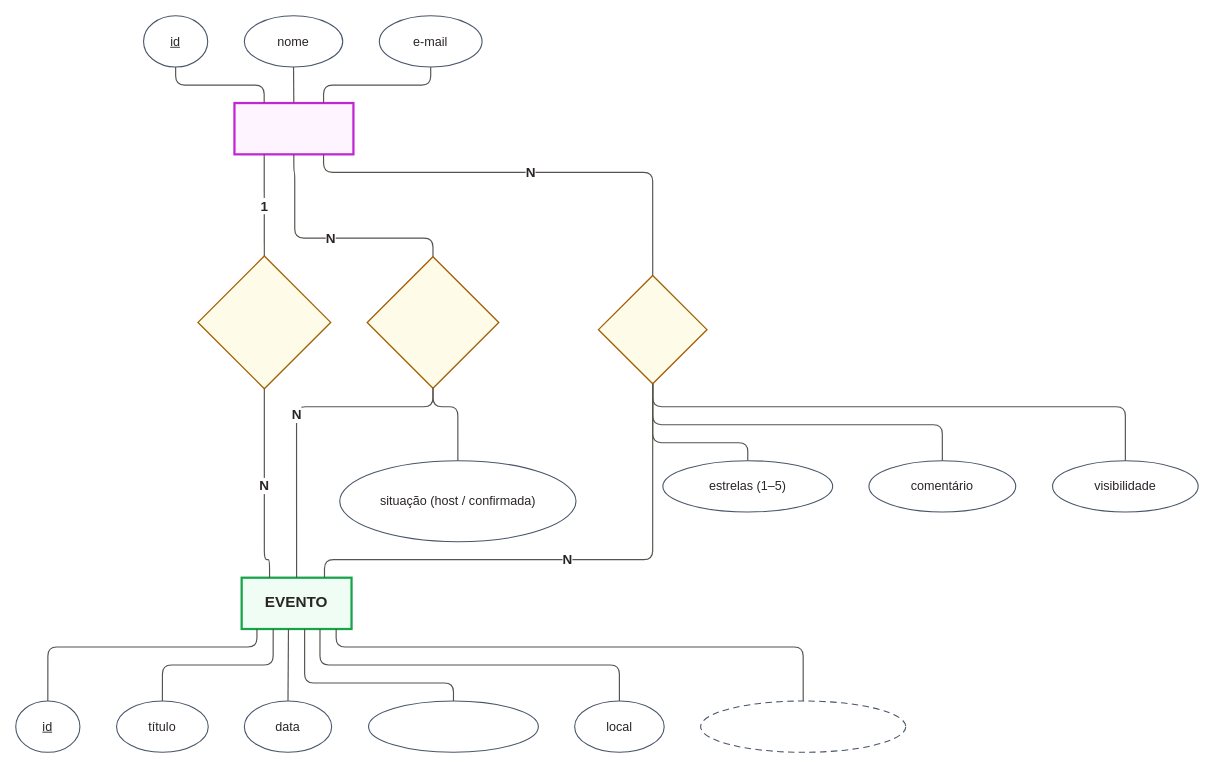
Some shapes in this 1214 by 769 pixel diagram are drawn without their labels. Each missing label, with the centre of its shape:
avalia: the point at 652,329
horário de fim: the point at 453,726
média de estrelas: the point at 803,726
organiza: the point at 264,322
participa: the point at 432,322
USUÁRIO: the point at 293,128
